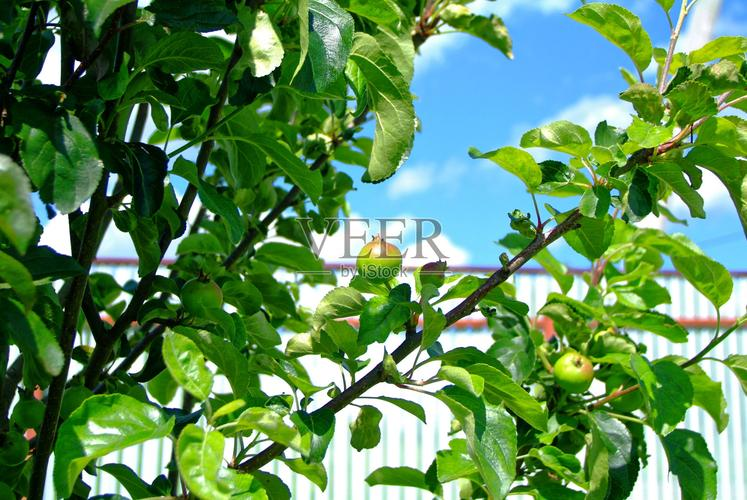unripe: (349, 235, 413, 284), (552, 348, 594, 394)
